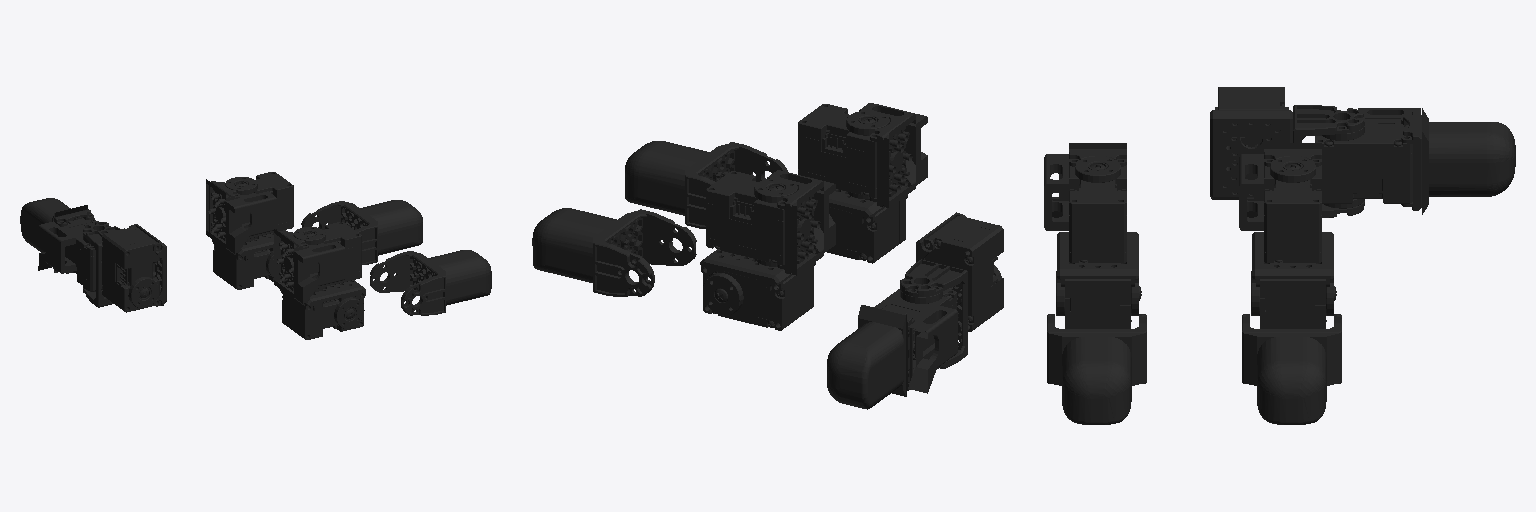
robot.urdf — onshape:
<robot name="onshape">
<link name="palm_lower">
<visual>
<origin xyz="-0.020095249652862544332 0.025757756134899473244 -0.034722403578460216134" rpy="0 -0 0" />
<geometry>
<mesh filename="right_palm.obj"/>
</geometry>
<material name="palm_lower_material">
<color rgba="0.2 0.2 0.2 1.0"/>
</material>
</visual>
<collision>
<origin xyz="-0.020095249652862544332 0.025757756134899473244 -0.034722403578460216134" rpy="0 -0 0" />
<geometry>
<mesh filename="right_palm.obj"/>
</geometry>
</collision>
<inertial>
<origin xyz="0 0 0" rpy="0 0 0"/>
<mass value="0.237" />
<inertia ixx="0.000354094" ixy="-0.000001193"  ixz="-0.000002445" iyy="0.000260915" iyz="-0.000002905" izz="0.000529257" />
</inertial>
</link>

<link name="mcp_joint">
<visual>
<origin xyz="0.0084069022611744960438 0.0077662438597169954416 0.014657354985032912051" rpy="1.6375789613220999807e-15 -1.0210473302491019535e-30 1.7177968783327987474e-31" />
<geometry>
<mesh filename="mcp_cuted.obj"/>
</geometry>
<material name="mcp_joint_material">
<color rgba="0.2 0.2 0.2 1.0"/>
</material>
</visual>
<collision>
<origin xyz="0.0084069022611744960438 0.0077662438597169954416 0.014657354985032912051" rpy="1.6375789613220999807e-15 -1.0210473302491019535e-30 1.7177968783327987474e-31" />
<geometry>
<mesh filename="mcp_cuted.obj"/>
</geometry>
</collision>
<inertial>
<origin xyz="0 0 0" rpy="0 0 0"/>
<mass value="0.044" />
<inertia ixx="0.000011499" ixy="0.000003049"  ixz="0.000000121" iyy="0.000007796" iyz="0.000000112" izz="0.000014759" />
</inertial>
</link>

<link name="pip">
<visual>
<origin xyz="0.0096433630922713280131 0.00029999999999998951117 0.00078403401041737645627" rpy="-1.570796326794896558 -1.570796326794896336 0" />
<geometry>
<mesh filename="pip.obj"/>
</geometry>
<material name="pip_material">
<color rgba="0.2 0.2 0.2 1.0"/>
</material>
</visual>
<collision>
<origin xyz="0.0096433630922713280131 0.00029999999999998951117 0.00078403401041737645627" rpy="-1.570796326794896558 -1.570796326794896336 0" />
<geometry>
<mesh filename="pip.obj"/>
</geometry>
</collision>
<inertial>
<origin xyz="0 0 0" rpy="0 0 0"/>
<mass value="0.032" />
<inertia ixx="0.000004798" ixy="0.000000012"  ixz="0.000000004" iyy="0.000002862" iyz="0.000000011" izz="0.000004234" />
</inertial>
</link>

<link name="dip">
<visual>
<origin xyz="0.021133352895225002849 -0.0084321191467048792201 0.0097850881620952408213" rpy="-3.141592653589793116 4.5075111242164408299e-32 4.4395481053923607589e-32" />
<geometry>
<mesh filename="dip.obj"/>
</geometry>
<material name="dip_material">
<color rgba="0.2 0.2 0.2 1.0"/>
</material>
</visual>
<collision>
<origin xyz="0.021133352895225002849 -0.0084321191467048792201 0.0097850881620952408213" rpy="-3.141592653589793116 4.5075111242164408299e-32 4.4395481053923607589e-32" />
<geometry>
<mesh filename="dip.obj"/>
</geometry>
</collision>
<inertial>
<origin xyz="0 0 0" rpy="0 0 0"/>
<mass value="0.037" />
<inertia ixx="0.000005542" ixy="-0.000000607"  ixz="-0.000000017" iyy="0.000005727" iyz="-0.000000023" izz="0.000006682" />
</inertial>
</link>

<link name="fingertip">
<visual>
<origin xyz="0.013286424108533503169 -0.0061142383865419869249 0.014499999999999497666" rpy="3.141592653589793116 1.1993117970061734707e-33 4.4395481053923607589e-32" />
<geometry>
<mesh filename="fingertip.obj"/>
</geometry>
<material name="fingertip_material">
<color rgba="0.2 0.2 0.2 1.0"/>
</material>
</visual>
<collision>
<origin xyz="0.013286424108533503169 -0.0061142383865419869249 0.014499999999999497666" rpy="3.141592653589793116 1.1993117970061734707e-33 4.4395481053923607589e-32" />
<geometry>
<mesh filename="fingertip.obj"/>
</geometry>
</collision>
<inertial>
<origin xyz="0 0 0" rpy="0 0 0"/>
<mass value="0.016" />
<inertia ixx="0.000003368" ixy="0.000000115"  ixz="0" iyy="0.000001556" iyz="0" izz="0.000002863" />
</inertial>
</link>

<joint name="0" type="revolute">
<origin xyz="-0.012200000000000007713 0.038099999999999994982 0.014500000000000000736" rpy="-1.570796326794896558 -1.0065212660796336576e-15 1.5707963267948943376" />
<parent link="mcp_joint" />
<child link="pip" />
<axis xyz="0 0 -1"/>
<limit effort="0.95" velocity="8.48" lower = "-1.047" upper = "1.047"/>
<joint_properties friction="0.0"/>
</joint>

<joint name="1" type="fixed">
<origin xyz="-0.0070952496528625457958 0.050057756134899472233 -0.01872240357846021927" rpy="1.5707963267948950037 1.5707963267948945596 0" />
<parent link="palm_lower" />
<child link="mcp_joint" />
<!-- <axis xyz="0 0 -1"/>
<limit effort="0.95" velocity="8.48" lower = "-0.314" upper = "2.23"/>
<joint_properties friction="0.0"/> -->
</joint>

<joint name="2" type="revolute">
<origin xyz="0.01499999999999996822 0.014299999999999904801 -0.012999999999999824196" rpy="1.5707963267948958919 -1.570796326794896336 0" />
<parent link="pip" />
<child link="dip" />
<axis xyz="0 0 -1"/>
<limit effort="0.95" velocity="8.48" lower = "-0.506" upper = "1.885"/>  
<joint_properties friction="0.0"/>
</joint>

<joint name="3" type="revolute">
<origin xyz="-4.0880582495572692636e-09 -0.036100004210367367397 0.00020000000000007858714" rpy="4.5935029425113685044e-17 -2.8730071914463794583e-16 4.4395481053923607589e-32" />
<parent link="dip" />
<child link="fingertip" />
<axis xyz="0 0 -1"/>
<limit effort="0.95" velocity="8.48" lower = "-0.366" upper = "2.042"/>   
<joint_properties friction="0.0"/>
</joint>

<link name="mcp_joint_2">
<visual>
<origin xyz="0.0084069022611744960438 0.0077662438597169954416 0.014657354985032913786" rpy="1.6375789613220999807e-15 -1.0076465469034000467e-30 2.1209300131419907151e-61" />
<geometry>
<mesh filename="mcp_cuted.obj"/>
</geometry>
<material name="mcp_joint_material">
<color rgba="0.2 0.2 0.2 1.0"/>
</material>
</visual>
<collision>
<origin xyz="0.0084069022611744960438 0.0077662438597169954416 0.014657354985032913786" rpy="1.6375789613220999807e-15 -1.0076465469034000467e-30 2.1209300131419907151e-61" />
<geometry>
<mesh filename="mcp_cuted.obj"/>
</geometry>
</collision>
<inertial>
<origin xyz="0 0 0" rpy="0 0 0"/>
<mass value="0.044" />
<inertia ixx="0.000011499" ixy="0.000003049"  ixz="0.000000121" iyy="0.000007796" iyz="0.000000112" izz="0.000014759" />
</inertial>
</link>

<link name="pip_2">
<visual>
<origin xyz="0.0096433630922713280131 0.00029999999999999471534 0.00078403401041737645627" rpy="-1.570796326794896558 -1.570796326794896336 0" />
<geometry>
<mesh filename="pip.obj"/>
</geometry>
<material name="pip_material">
<color rgba="0.2 0.2 0.2 1.0"/>
</material>
</visual>
<collision>
<origin xyz="0.0096433630922713280131 0.00029999999999999471534 0.00078403401041737645627" rpy="-1.570796326794896558 -1.570796326794896336 0" />
<geometry>
<mesh filename="pip.obj"/>
</geometry>
</collision>
<inertial>
<origin xyz="0 0 0" rpy="0 0 0"/>
<mass value="0.032" />
<inertia ixx="0.000004798" ixy="0.000000012"  ixz="0.000000004" iyy="0.000002862" iyz="0.000000011" izz="0.000004234" />
</inertial>
</link>

<link name="dip_2">
<visual>
<origin xyz="0.021133352895225002849 -0.0084321191467048653423 0.0097850881620952373519" rpy="-3.141592653589793116 2.1146933785271955805e-32 1.4408183216511868558e-31" />
<geometry>
<mesh filename="dip.obj"/>
</geometry>
<material name="dip_material">
<color rgba="0.2 0.2 0.2 1.0"/>
</material>
</visual>
<collision>
<origin xyz="0.021133352895225002849 -0.0084321191467048653423 0.0097850881620952373519" rpy="-3.141592653589793116 2.1146933785271955805e-32 1.4408183216511868558e-31" />
<geometry>
<mesh filename="dip.obj"/>
</geometry>
</collision>
<inertial>
<origin xyz="0 0 0" rpy="0 0 0"/>
<mass value="0.037" />
<inertia ixx="0.000005542" ixy="-0.000000607"  ixz="-0.000000017" iyy="0.000005727" iyz="-0.000000023" izz="0.000006682" />
</inertial>
</link>

<link name="fingertip_2">
<visual>
<origin xyz="0.01328642410853349623 -0.0061142383865420008027 0.014499999999999495931" rpy="3.141592653589793116 -4.3179597882835943107e-33 1.4408183216511868558e-31" />
<geometry>
<mesh filename="fingertip.obj"/>
</geometry>
<material name="fingertip_material">
<color rgba="0.2 0.2 0.2 1.0"/>
</material>
</visual>
<collision>
<origin xyz="0.01328642410853349623 -0.0061142383865420008027 0.014499999999999495931" rpy="3.141592653589793116 -4.3179597882835943107e-33 1.4408183216511868558e-31" />
<geometry>
<mesh filename="fingertip.obj"/>
</geometry>
</collision>
<inertial>
<origin xyz="0 0 0" rpy="0 0 0"/>
<mass value="0.016" />
<inertia ixx="0.000003368" ixy="0.000000115"  ixz="0" iyy="0.000001556" iyz="0" izz="0.000002863" />
</inertial>
</link>

<joint name="4" type="revolute">
<origin xyz="-0.012200000000000019856 0.038099999999999981104 0.01450000000000000594" rpy="-1.570796326794896558 -1.0065212760057939085e-15 1.5707963267948943376" />
<parent link="mcp_joint_2" />
<child link="pip_2" />
<axis xyz="0 0 -1"/>
<limit effort="0.95" velocity="8.48" lower = "-1.047" upper = "1.047"/>
<joint_properties friction="0.0"/>
</joint>

<joint name="5" type="fixed">
<origin xyz="-0.0070952496528625388569 -0.017392243865100525113 -0.018722403578460229678" rpy="1.570796326794896558 1.570796326794896558 0" />
<parent link="palm_lower" />
<child link="mcp_joint_2" />
<!-- <axis xyz="0 0 -1"/>
<limit effort="0.95" velocity="8.48" lower = "-0.314" upper = "2.23"/>
<joint_properties friction="0.0"/> -->
</joint>

<joint name="6" type="revolute">
<origin xyz="0.014999999999999975159 0.014300000000000000211 -0.013000000000000018485" rpy="1.5707963267948958919 -1.570796326794896336 0" />
<parent link="pip_2" />
<child link="dip_2" />
<axis xyz="0 0 -1"/>
<limit effort="0.95" velocity="8.48" lower = "-0.506" upper = "1.885"/>  
<joint_properties friction="0.0"/>
</joint>

<joint name="7" type="revolute">
<origin xyz="1.0061396160665481148e-16 -0.036099999999999854428 0.00020000000000007858714" rpy="4.5935029425113654229e-17 -2.8730071914463794583e-16 1.4408183216511868558e-31" />
<parent link="dip_2" />
<child link="fingertip_2" />
<axis xyz="0 0 -1"/>
<limit effort="0.95" velocity="8.48" lower = "-0.366" upper = "2.042"/>   
<joint_properties friction="0.0"/>
</joint>

<link name="pip_4">
<visual>
<origin xyz="-0.0053566369077286714317 0.00029999999999999991951 0.00078403401041737819099" rpy="-1.570796326794896558 -1.570796326794896336 0" />
<geometry>
<mesh filename="pip.obj"/>
</geometry>
<material name="pip_material">
<color rgba="0.2 0.2 0.2 1.0"/>
</material>
</visual>
<collision>
<origin xyz="-0.0053566369077286714317 0.00029999999999999991951 0.00078403401041737819099" rpy="-1.570796326794896558 -1.570796326794896336 0" />
<geometry>
<mesh filename="pip.obj"/>
</geometry>
</collision>
<inertial>
<origin xyz="0 0 0" rpy="0 0 0"/>
<mass value="0.032" />
<inertia ixx="0.000004798" ixy="0.000000012"  ixz="0.000000004" iyy="0.000002862" iyz="0.000000011" izz="0.000004234" />
</inertial>
</link>

<link name="thumb_pip">
<visual>
<origin xyz="0.011961920770611186859 -5.3082538364890297089e-16 -0.015852648956664199681" rpy="1.570796326794896558 1.6050198443300152637e-46 -3.9204996250525192755e-59" />
<geometry>
<mesh filename="thumb_pip.obj"/>
</geometry>
<material name="thumb_pip_material">
<color rgba="0.2 0.2 0.2 1.0"/>
</material>
</visual>
<collision>
<origin xyz="0.011961920770611186859 -5.3082538364890297089e-16 -0.015852648956664199681" rpy="1.570796326794896558 1.6050198443300152637e-46 -3.9204996250525192755e-59" />
<geometry>
<mesh filename="thumb_pip.obj"/>
</geometry>
</collision>
<inertial>
<origin xyz="0 0 0" rpy="0 0 0"/>
<mass value="0.003" />
<inertia ixx="0.000000593" ixy="0"  ixz="0" iyy="0.000000549" iyz="0" izz="0.000000224" />
</inertial>
</link>

<link name="thumb_dip">
<visual>
<origin xyz="0.043968715707239175439 0.057952952973709198625 -0.0086286764493694757122" rpy="1.9428902930940098942e-16 3.2751579226442200773e-15 1.1123758529657360012e-46" />
<geometry>
<mesh filename="thumb_dip_tip.obj"/>
</geometry>
<material name="thumb_dip_material">
<color rgba="0.2 0.2 0.2 1.0"/>
</material>
</visual>
<collision>
<origin xyz="0.043968715707239175439 0.057952952973709198625 -0.0086286764493694757122" rpy="1.9428902930940098942e-16 3.2751579226442200773e-15 1.1123758529657360012e-46" />
<geometry>
<mesh filename="thumb_dip_tip.obj"/>
</geometry>
</collision>
<inertial>
<origin xyz="0 0 0" rpy="0 0 0"/>
<mass value="0.038" />
<inertia ixx="0.000008474" ixy="0.000000241"  ixz="0.000000026" iyy="0.000003841" iyz="0.000000025" izz="0.000007679" />
</inertial>
</link>

<joint name="12" type="revolute">
<origin xyz="-0.027395249652862533996 0.0212422438651005258004 -0.009622403578460215601" rpy="-8.2381766464939424156e-17 1.5707963267948956698 0" />
<parent link="palm_lower" />
<child link="pip_4" />
<axis xyz="0 0 -1"/>
<limit effort="0.95" velocity="8.48" lower = "-0.349" upper = "2.094"/> 
<joint_properties friction="0.0"/>
</joint>

<joint name="13" type="revolute">
<origin xyz="-2.7755575615628913511e-17 0.014300000000000005415 -0.013000000000000011546" rpy="1.5707963267948958919 -1.570796326794896336 0" />
<parent link="pip_4" />
<child link="thumb_pip" />
<axis xyz="0 0 -1"/>
<limit effort="0.95" velocity="8.48" lower = "-0.47" upper = "2.443"/> 
<joint_properties friction="0.0"/>
</joint>

<joint name="14" type="revolute">
<origin xyz="0 0.014499999999999966041 -0.017000000000000053263" rpy="-1.570796326794896558 1.6050198443300131245e-46 -1.9721522630516624601e-31" />
<parent link="thumb_pip" />
<child link="thumb_dip" />
<axis xyz="0 0 -1"/>
<limit effort="0.95" velocity="8.48" lower = "-1.20" upper = "1.90"/> 
<joint_properties friction="0.0"/>
</joint>

</robot>

--- Render facts (derived) ---
The picture shows the robot from 3 angles, left to right: view 1: azimuth 30°, elevation 25°; view 2: azimuth 150°, elevation 25°; view 3: azimuth 270°, elevation 25°; orthographic projection.
Model onshape with 12 links and 11 joints (9 revolute, 2 fixed), rooted at palm_lower, posed all joints at 0.
Visible links, largest first — view 1: fingertip_2, mcp_joint_2, mcp_joint, pip_4, thumb_dip, fingertip, pip_2, pip, thumb_pip; view 2: thumb_dip, mcp_joint, mcp_joint_2, fingertip, fingertip_2, pip, pip_4, pip_2, thumb_pip; view 3: thumb_dip, mcp_joint, mcp_joint_2, fingertip, fingertip_2, pip_4, pip, pip_2, thumb_pip.
Boxes of the visible links, bbox=[...] form: fingertip_2: bbox=[370, 250, 491, 315]; mcp_joint_2: bbox=[274, 222, 361, 303]; mcp_joint: bbox=[206, 172, 293, 253]; pip_4: bbox=[102, 224, 166, 312]; thumb_dip: bbox=[20, 198, 98, 291]; fingertip: bbox=[301, 200, 422, 264]; pip_2: bbox=[280, 280, 365, 339]; pip: bbox=[212, 230, 287, 289]; thumb_pip: bbox=[83, 222, 119, 307]; thumb_dip: bbox=[827, 284, 957, 409]; mcp_joint: bbox=[706, 170, 835, 275]; mcp_joint_2: bbox=[798, 103, 927, 207]; fingertip: bbox=[532, 208, 696, 296]; fingertip_2: bbox=[625, 141, 787, 228]; pip: bbox=[700, 249, 815, 330]; pip_4: bbox=[916, 212, 1003, 331]; pip_2: bbox=[827, 189, 907, 263]; thumb_pip: bbox=[900, 259, 967, 372]; thumb_dip: bbox=[1315, 108, 1515, 214]; mcp_joint: bbox=[1239, 143, 1321, 262]; mcp_joint_2: bbox=[1044, 143, 1126, 262]; fingertip: bbox=[1242, 314, 1341, 424]; fingertip_2: bbox=[1047, 314, 1146, 424]; pip_4: bbox=[1210, 87, 1292, 199]; pip: bbox=[1251, 232, 1336, 328]; pip_2: bbox=[1056, 232, 1141, 328]; thumb_pip: bbox=[1293, 105, 1364, 217].
Bounding box of the posed robot: 0.1905 × 0.1629 × 0.0549 m (x, y, z).
Meshes: 7 distinct files referenced, 9 mesh visuals loaded (5 OBJ); not drawn: 3 (reference not matched to a file when rendering).